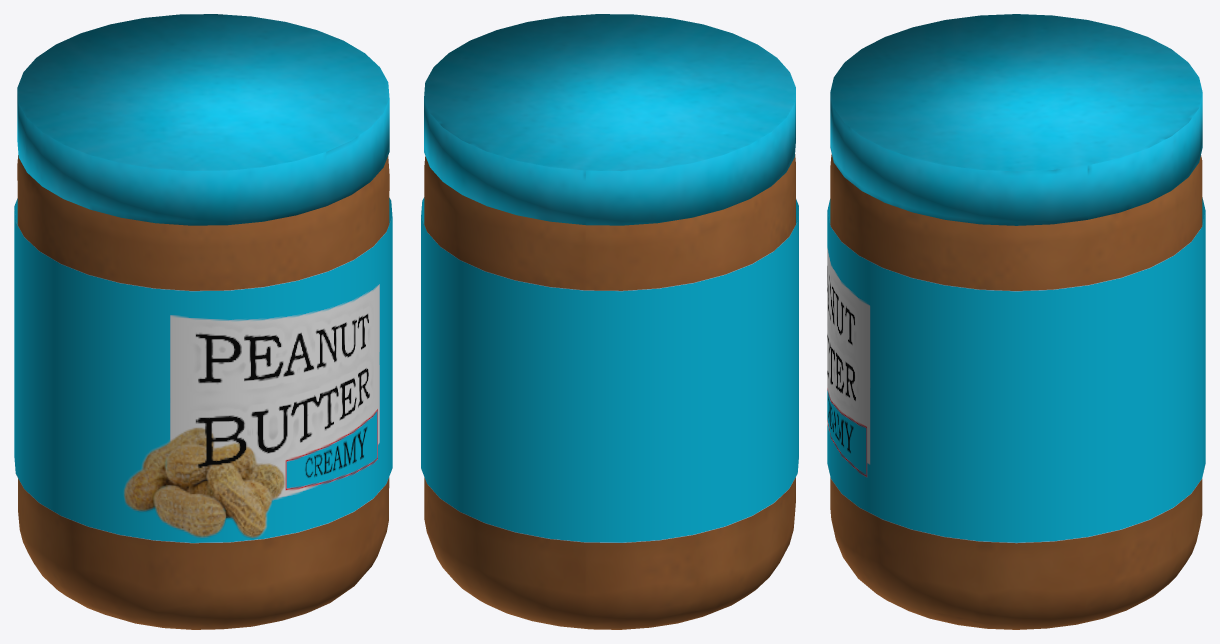
File: Peanut Butter.fbx
3 views of the same model, side by side, from view 1: azimuth 30°, elevation 25°; view 2: azimuth 150°, elevation 25°; view 3: azimuth 270°, elevation 25° (orthographic).
Parts seen in each view (by area): view 1: Peanut Butter; view 2: Peanut Butter; view 3: Peanut Butter.
Part boxes in pixels (left/top/right/bottom): Peanut Butter: left=14, top=14, right=392, bottom=629; Peanut Butter: left=421, top=14, right=798, bottom=629; Peanut Butter: left=827, top=14, right=1205, bottom=629.
Size of the model in its own units: 203 by 282 by 203.
Materials: 3 (3 with a texture image).
